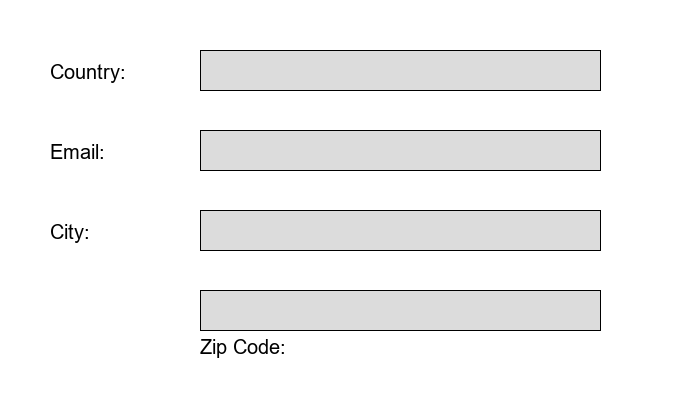Label: (200, 335, 280, 354), (50, 60, 120, 79), (50, 140, 99, 155), (50, 220, 84, 239)
Textbox: (200, 50, 600, 90), (200, 130, 600, 170), (200, 210, 600, 250), (200, 290, 600, 330)
